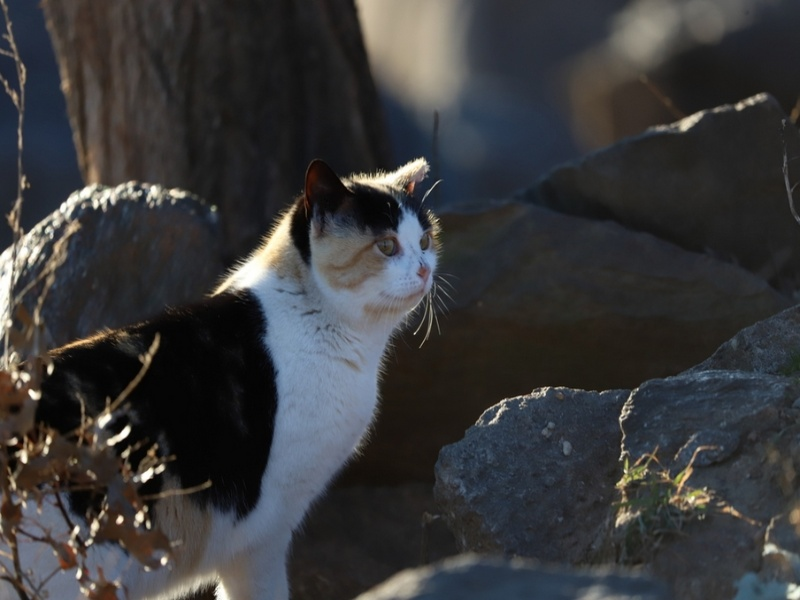cat: (6, 153, 444, 598)
